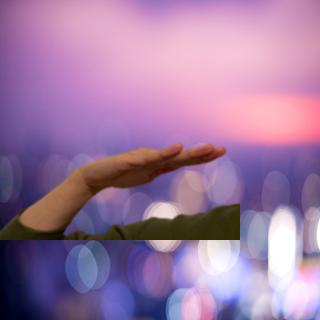WAIT: (82, 138, 233, 193)
